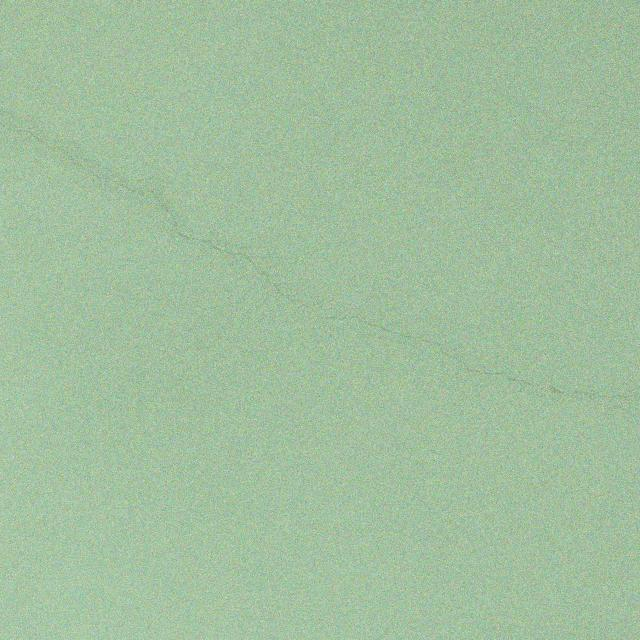crack: (0, 119, 640, 398)
